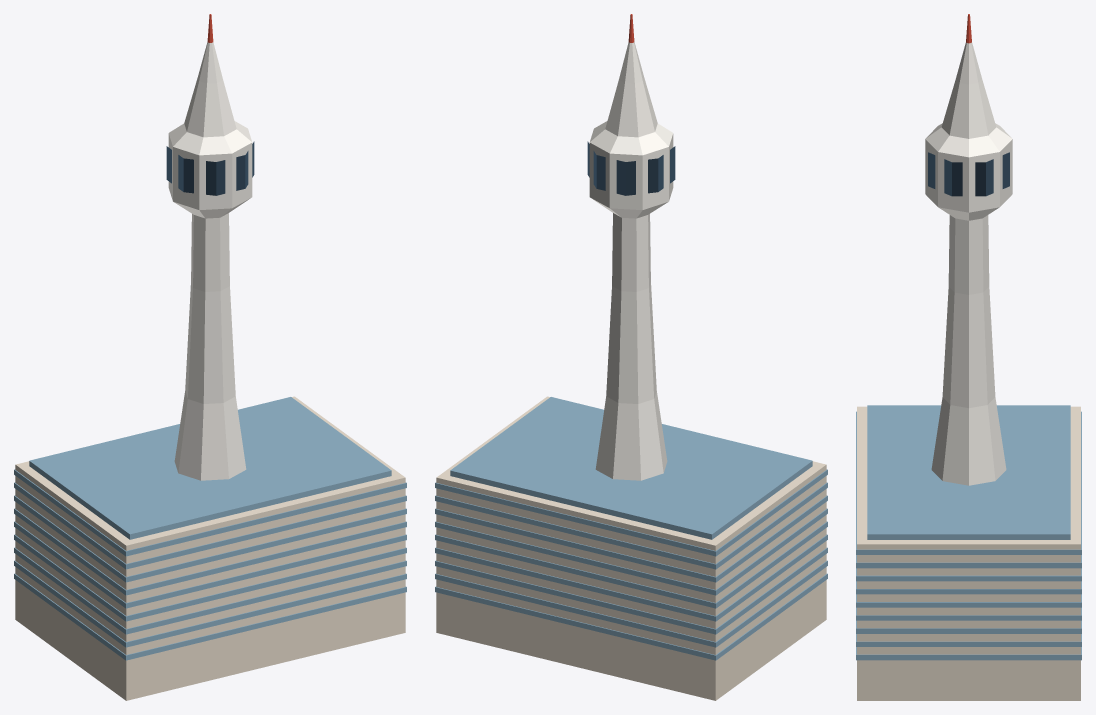
File: kyoto-tower.glb
3 views of the same model, side by side, from view 1: azimuth 30°, elevation 25°; view 2: azimuth 150°, elevation 25°; view 3: azimuth 270°, elevation 25° (orthographic).
Parts seen in each view (by area): view 1: scene; view 2: scene; view 3: scene.
Boxes of the visible parts, box(x1,y1,x2,y2) form: scene: box(14, 14, 406, 700); scene: box(435, 14, 827, 700); scene: box(856, 14, 1081, 700).
Bounding box in the file's own units: 64.4 × 134 × 44.4.
